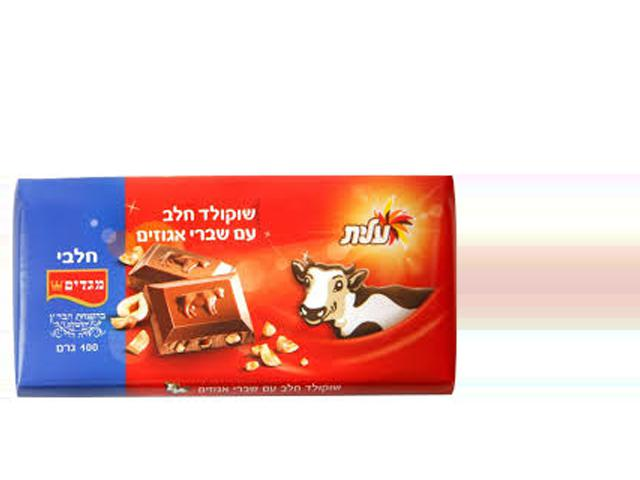chocolate: (18, 178, 454, 414)
